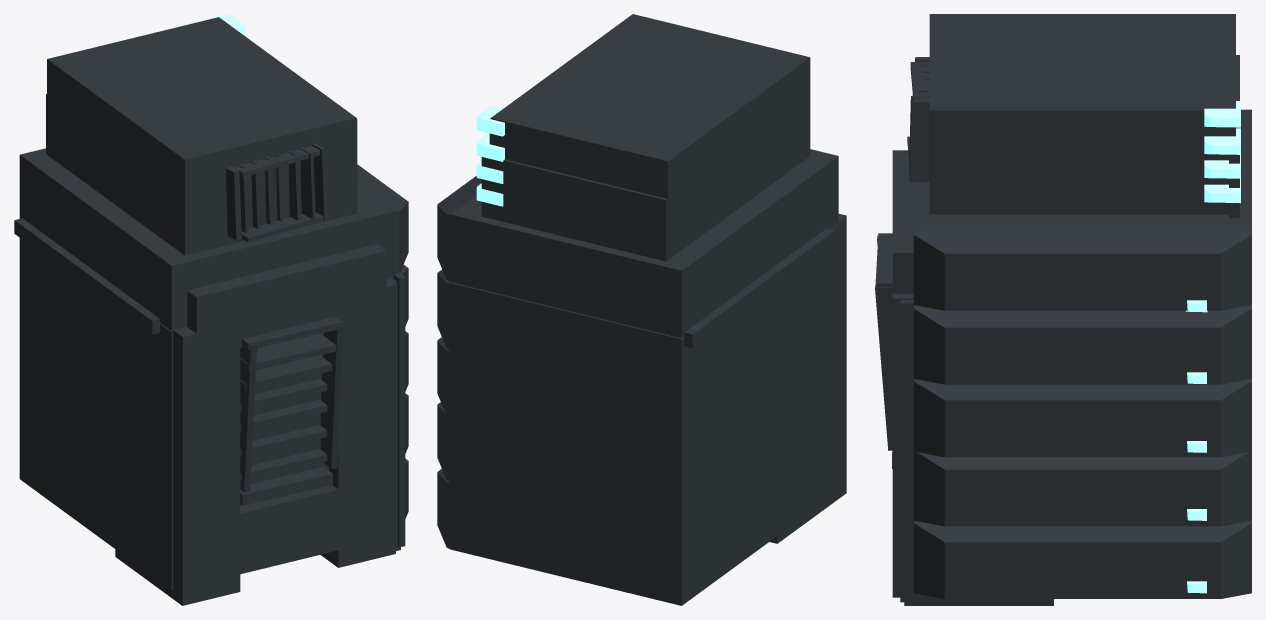
Rendered from Server_Rack_final.fbx.
3 renders of one model, left to right at view 1: azimuth 30°, elevation 25°; view 2: azimuth 150°, elevation 25°; view 3: azimuth 270°, elevation 25°, orthographic. The views are drawn at different scales.
Visible parts, largest first — view 1: Cube.013; view 2: Cube.013; view 3: Cube.013.
Boxes of the visible parts, x1,y1,x2,y2 form: Cube.013: (14, 14, 408, 605); Cube.013: (437, 14, 846, 605); Cube.013: (875, 14, 1251, 605).
Size of the model in its own units: 1.99 by 3.14 by 2.23.
